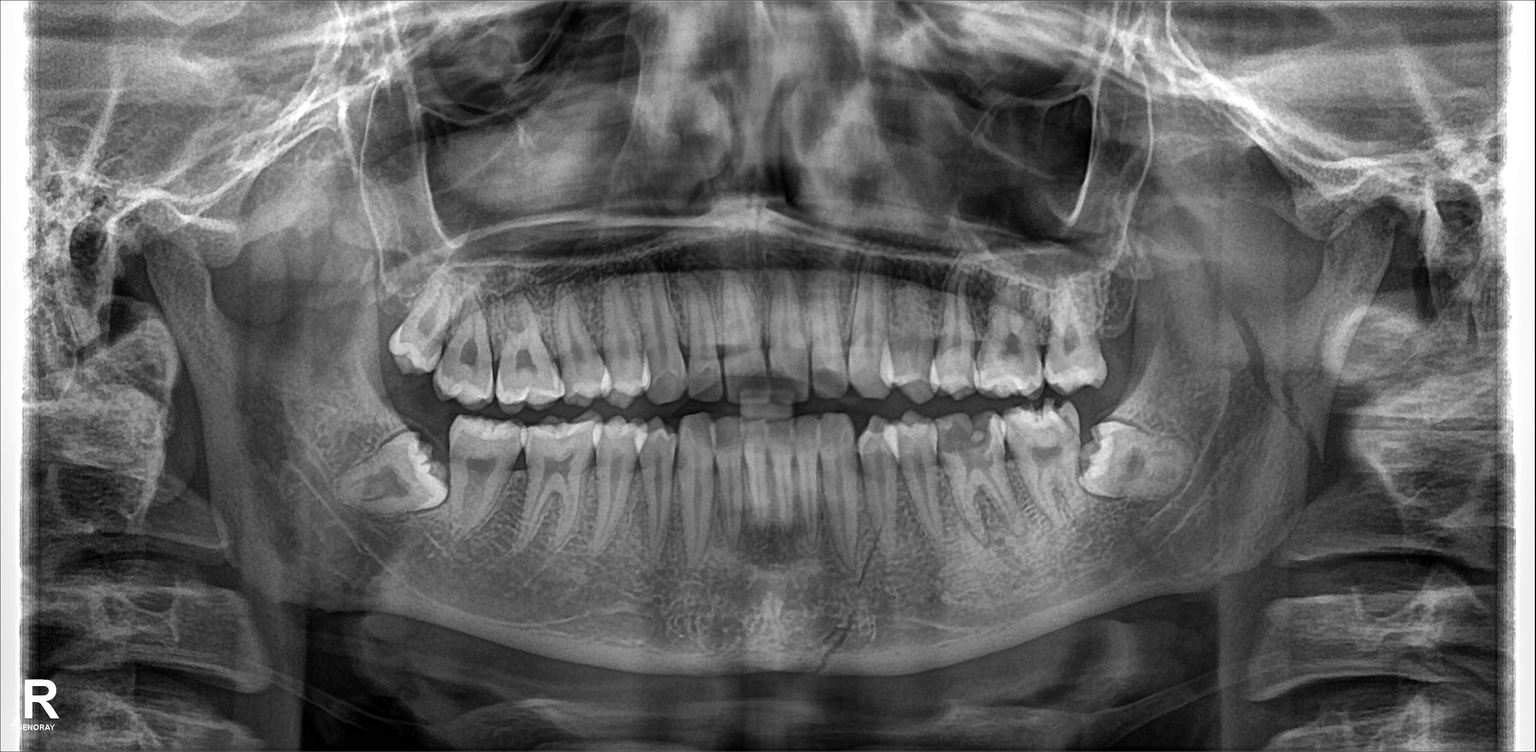Dental Caries: (942, 421, 997, 466), (734, 369, 800, 398)
Impacted Third Molar: (1089, 411, 1199, 493), (328, 449, 444, 520)
Missing Tooth: (1095, 274, 1146, 378)
